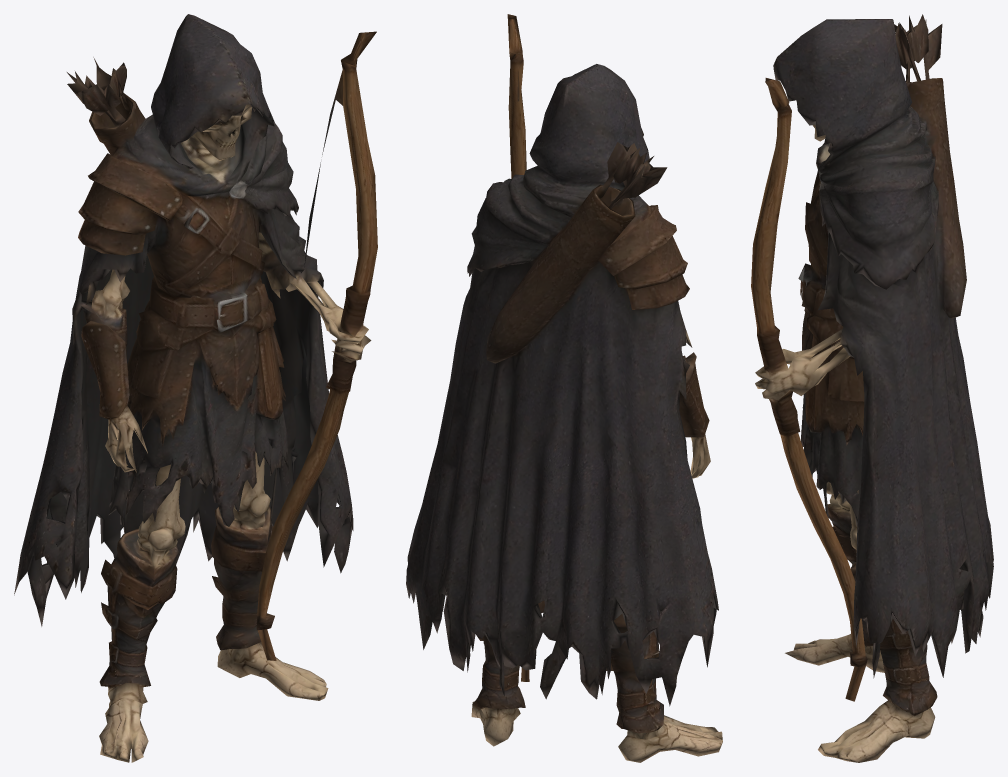
The model's file is skeleton-archer.glb.
3 views of the same model, side by side, from view 1: azimuth 30°, elevation 25°; view 2: azimuth 150°, elevation 25°; view 3: azimuth 270°, elevation 25° (orthographic). The views are drawn at different scales.
Visible parts, largest first — view 1: tripo_node_66ff4fa0-08a1-462d-978e-7a037b65a2e4; view 2: tripo_node_66ff4fa0-08a1-462d-978e-7a037b65a2e4; view 3: tripo_node_66ff4fa0-08a1-462d-978e-7a037b65a2e4.
Part boxes in pixels (x1,y1,x2,y2): tripo_node_66ff4fa0-08a1-462d-978e-7a037b65a2e4: (14, 14, 377, 762); tripo_node_66ff4fa0-08a1-462d-978e-7a037b65a2e4: (406, 14, 722, 762); tripo_node_66ff4fa0-08a1-462d-978e-7a037b65a2e4: (751, 14, 993, 762).
Bounding box in the file's own units: 0.4874 × 0.9966 × 0.3188.
1 material, 1 textured.
